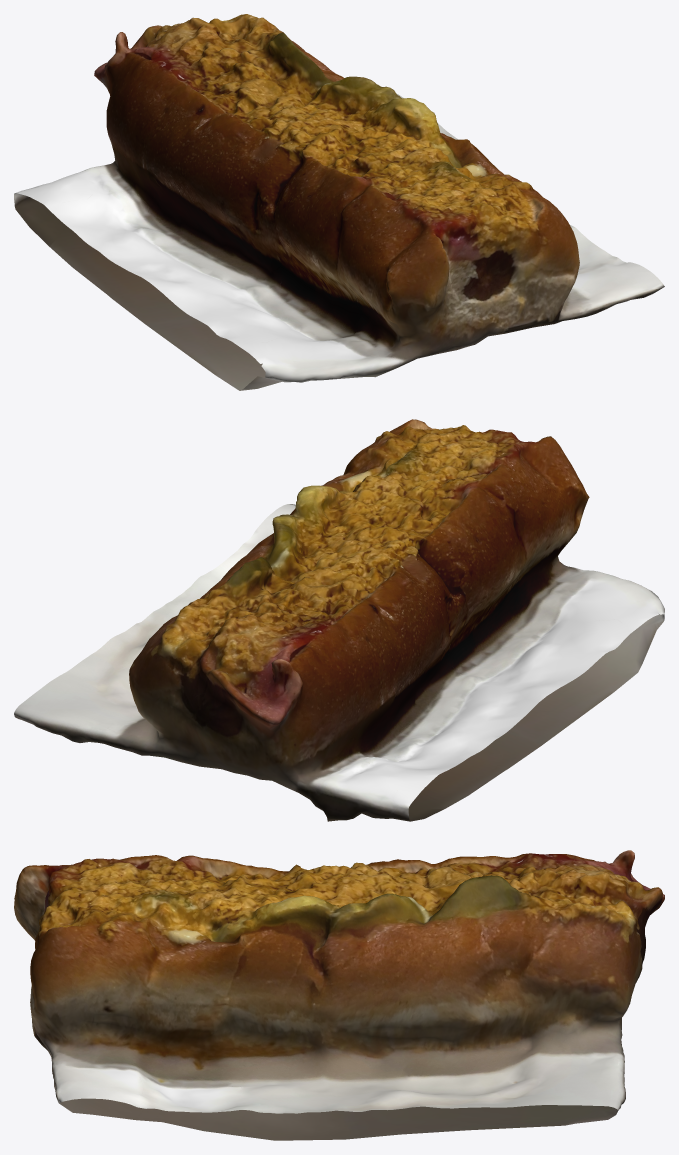
File: perro-caliente.glb
3 views of the same model, one above another, from view 1: azimuth 30°, elevation 25°; view 2: azimuth 150°, elevation 25°; view 3: azimuth 270°, elevation 25° (orthographic). The views are drawn at different scales.
Parts seen in each view (by area): view 1: 3DModel; view 2: 3DModel; view 3: 3DModel.
Part boxes in pixels (x1,y1,x2,y2): 3DModel: (14,14,664,390); 3DModel: (14,419,664,821); 3DModel: (14,850,664,1140).
Bounding box in the file's own units: 0.1409 × 0.0641 × 0.2015.
Materials: 1 (1 with a texture image).
